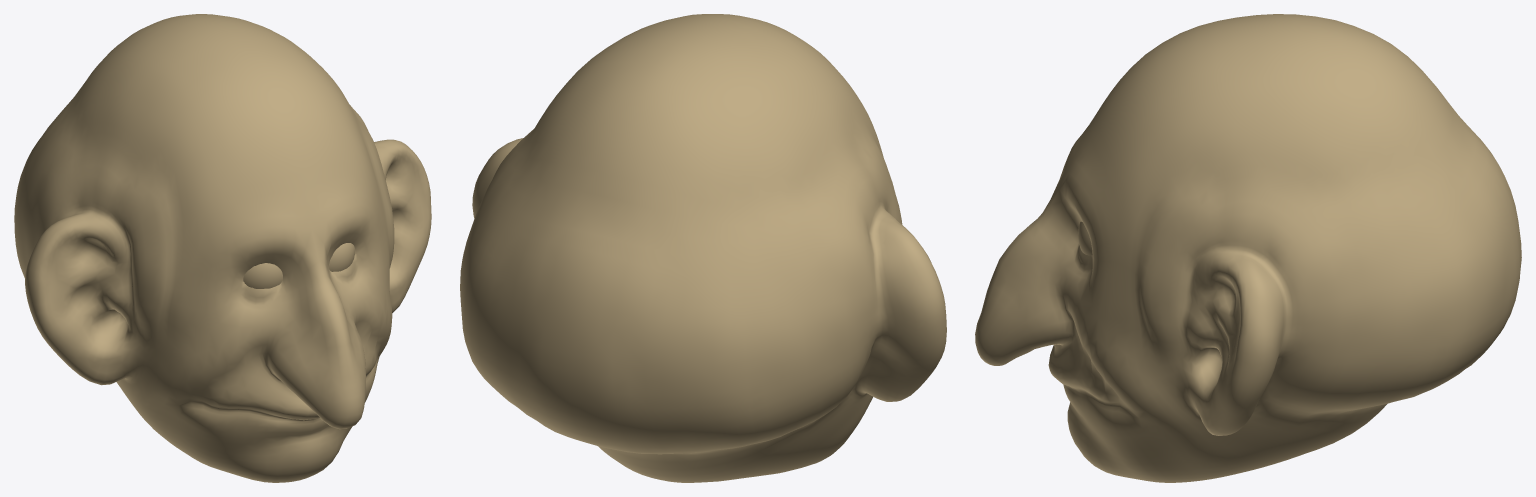
The model's file is SM_Male Head01.fbx.
The picture shows the model from 3 angles, left to right: view 1: azimuth 30°, elevation 25°; view 2: azimuth 150°, elevation 25°; view 3: azimuth 270°, elevation 25°; orthographic projection. The views are drawn at different scales.
Parts seen in each view (by area): view 1: heead 1 low001; view 2: heead 1 low001; view 3: heead 1 low001.
Boxes of the visible parts, x1,y1,x2,y2 form: heead 1 low001: (14, 14, 431, 482); heead 1 low001: (460, 14, 946, 482); heead 1 low001: (975, 14, 1521, 482).
Bounding box in the file's own units: 11.61 × 10.88 × 12.37.
